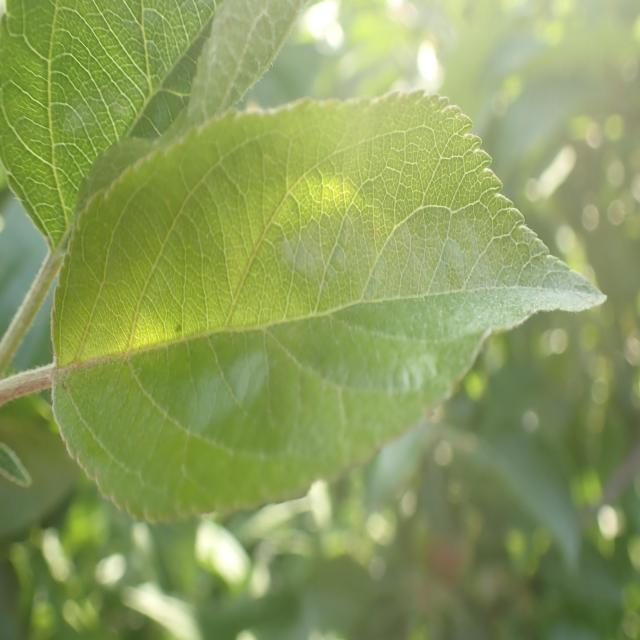healthy: (51, 88, 607, 524), (0, 0, 306, 253)
